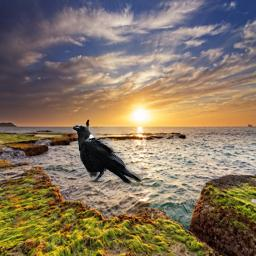Crow: (72, 122, 143, 186)
